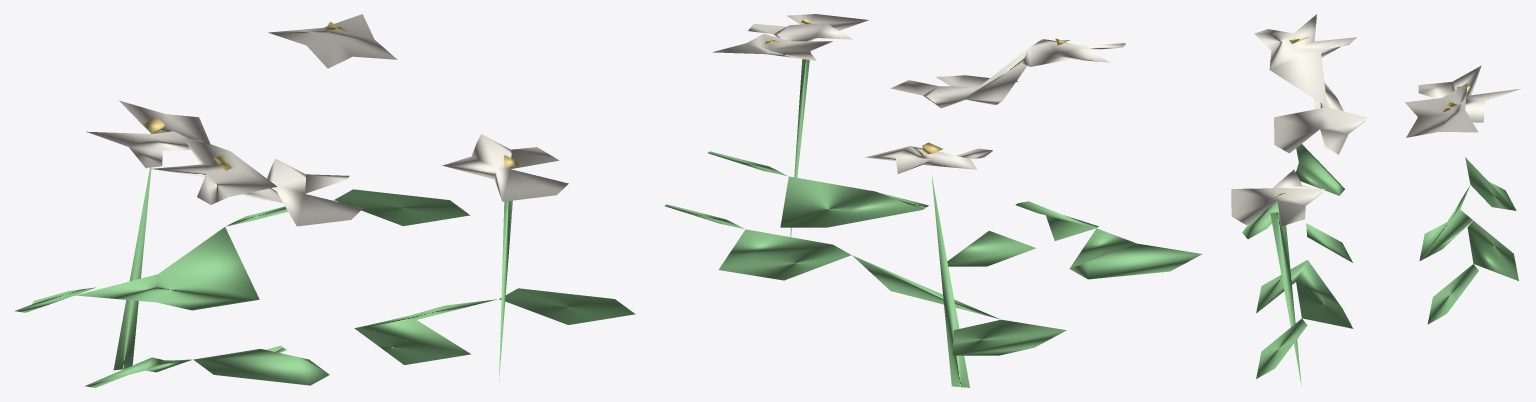
Rendered from flower_2_spring_low.glb.
The picture shows the model from 3 angles, left to right: view 1: azimuth 30°, elevation 25°; view 2: azimuth 150°, elevation 25°; view 3: azimuth 270°, elevation 25°; orthographic projection. The views are drawn at different scales.
Size of the model in its own units: 0.6121 by 0.3422 by 0.3559.
